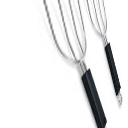Fork: (40, 2, 128, 128)
